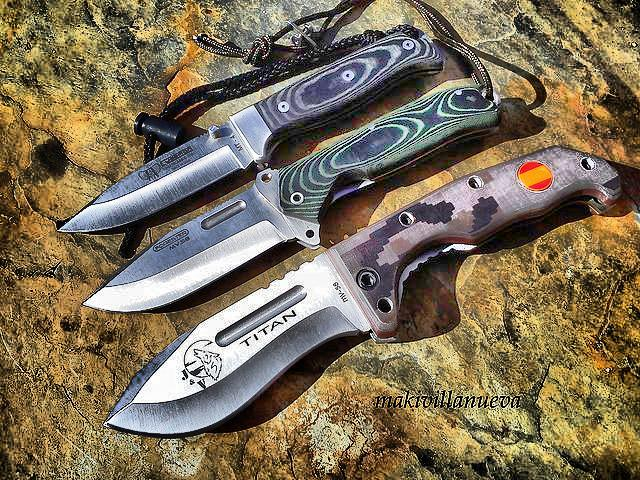knife: (97, 280, 355, 440), (74, 203, 294, 317), (49, 130, 250, 234)
